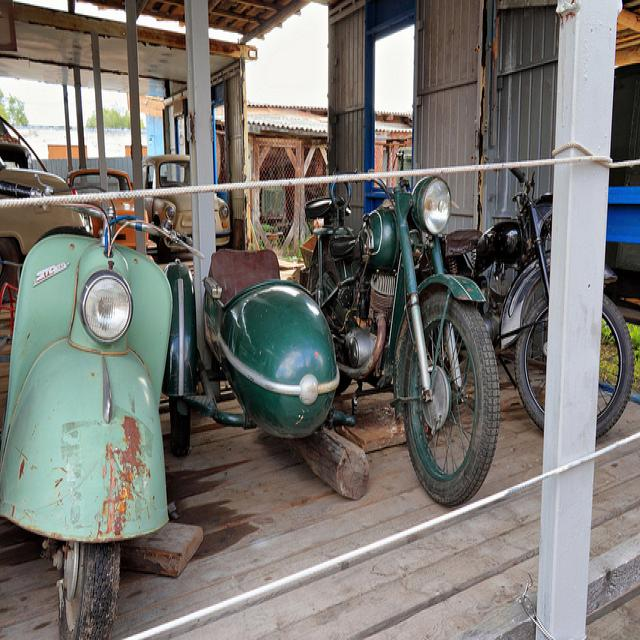motor: (1, 197, 186, 640), (299, 142, 501, 511), (451, 169, 634, 439)
